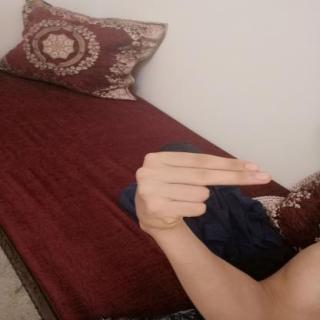AYN: (123, 143, 283, 237)
